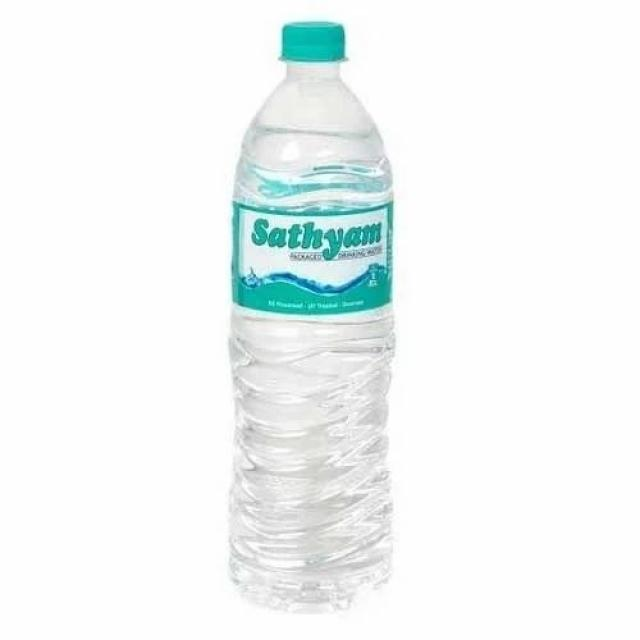bottle: (187, 10, 461, 640)
